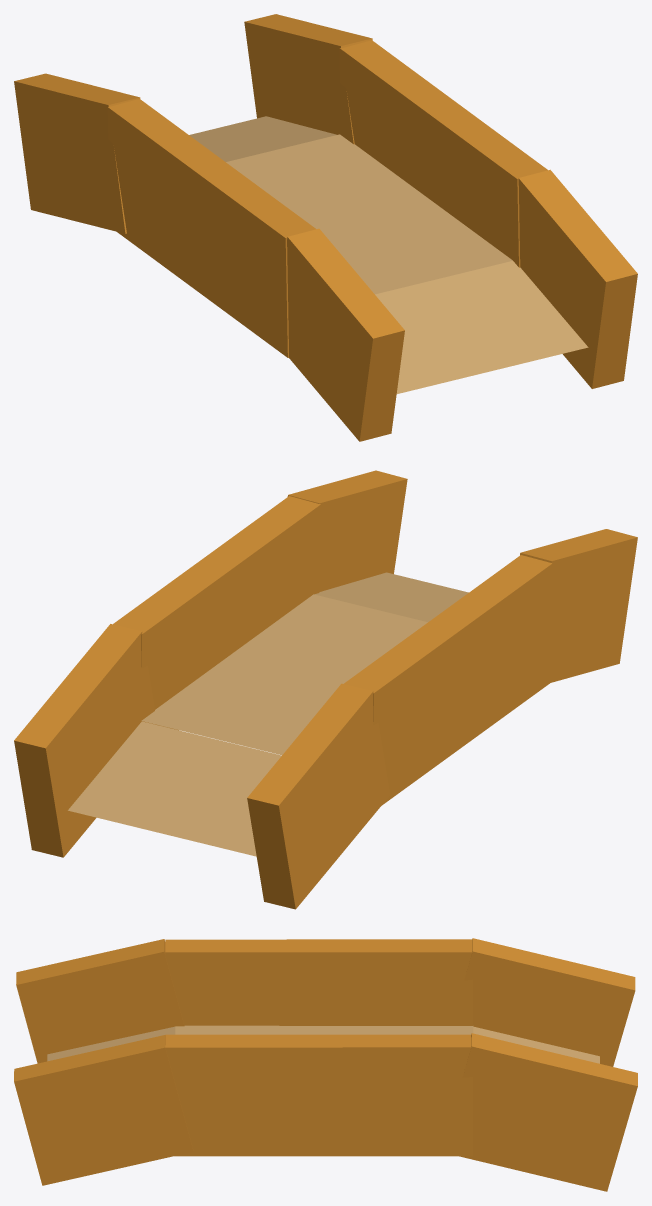
File: Bridge 1.fbx
The picture shows the model from 3 angles, top to bottom: view 1: azimuth 30°, elevation 25°; view 2: azimuth 150°, elevation 25°; view 3: azimuth 270°, elevation 25°; orthographic projection. The views are drawn at different scales.
Visible parts, largest first — view 1: Left arm Mid.002, Left arm Mid, Mid Middle, Left arm 2.002, Mid 1, Left arm 2, Left arm 1.002, Left arm 1, Mid 2; view 2: Left arm Mid.002, Mid Middle, Left arm Mid, Left arm 1.002, Left arm 1, Mid 2, Left arm 2.002, Left arm 2, Mid 1; view 3: Left arm Mid, Left arm Mid.002, Left arm 1, Left arm 2, Left arm 1.002, Left arm 2.002, Mid Middle, Mid 2, Mid 1.
Boxes of the visible parts, bbox=[...] form: Left arm Mid.002: bbox=[107, 99, 316, 357]; Left arm Mid: bbox=[339, 40, 547, 267]; Mid Middle: bbox=[226, 134, 512, 294]; Left arm 2.002: bbox=[287, 228, 404, 441]; Mid 1: bbox=[375, 261, 588, 393]; Left arm 2: bbox=[518, 169, 637, 388]; Left arm 1.002: bbox=[14, 73, 140, 233]; Left arm 1: bbox=[244, 14, 372, 144]; Mid 2: bbox=[189, 116, 336, 161]; Left arm Mid.002: bbox=[344, 555, 552, 805]; Mid Middle: bbox=[141, 594, 427, 754]; Left arm Mid: bbox=[113, 496, 320, 730]; Left arm 1.002: bbox=[247, 683, 389, 909]; Left arm 1: bbox=[14, 624, 156, 857]; Mid 2: bbox=[68, 721, 281, 856]; Left arm 2.002: bbox=[520, 529, 637, 682]; Left arm 2: bbox=[287, 470, 407, 591]; Mid 1: bbox=[314, 572, 468, 622]; Left arm Mid: bbox=[165, 1034, 472, 1156]; Left arm Mid.002: bbox=[165, 939, 472, 1025]; Left arm 1: bbox=[459, 1033, 637, 1191]; Left arm 2: bbox=[14, 1035, 193, 1185]; Left arm 1.002: bbox=[464, 938, 635, 1066]; Left arm 2.002: bbox=[16, 939, 184, 1063]; Mid Middle: bbox=[175, 1025, 473, 1034]; Mid 2: bbox=[473, 1026, 599, 1063]; Mid 1: bbox=[47, 1026, 175, 1061].
Bounding box in the file's own units: 409 × 247 × 959.
